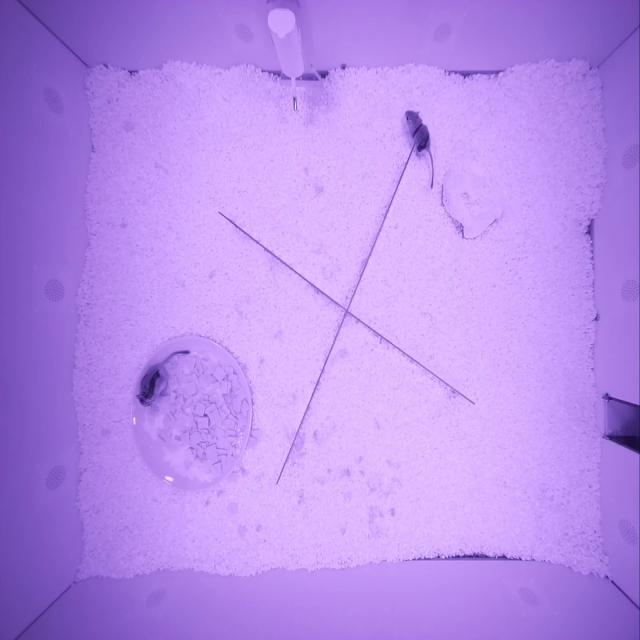pup_h_stripe: (405, 109, 430, 154)
pup_v_stripe: (135, 362, 168, 407)
